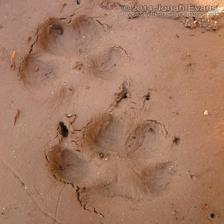fox: (47, 88, 183, 211)
